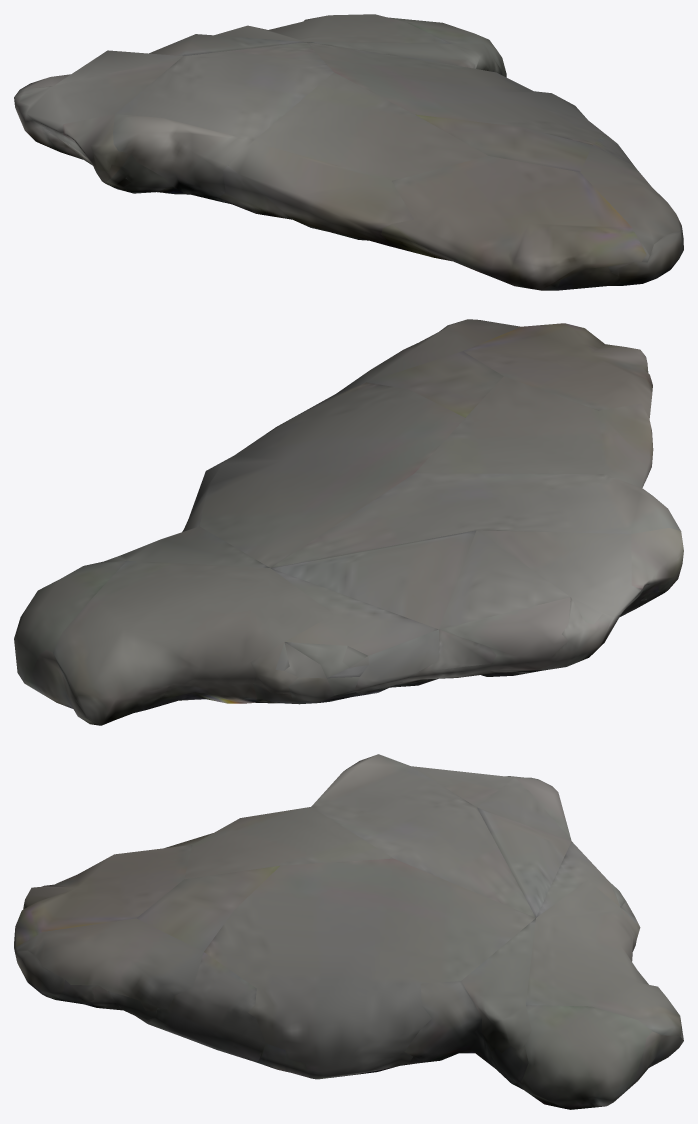
Rendered from hall.glb.
The picture shows the model from 3 angles, top to bottom: view 1: azimuth 30°, elevation 25°; view 2: azimuth 150°, elevation 25°; view 3: azimuth 270°, elevation 25°; orthographic projection. The views are drawn at different scales.
Bounding box in the file's own units: 0.4082 × 0.1412 × 0.5279.
1 material, 1 textured.
